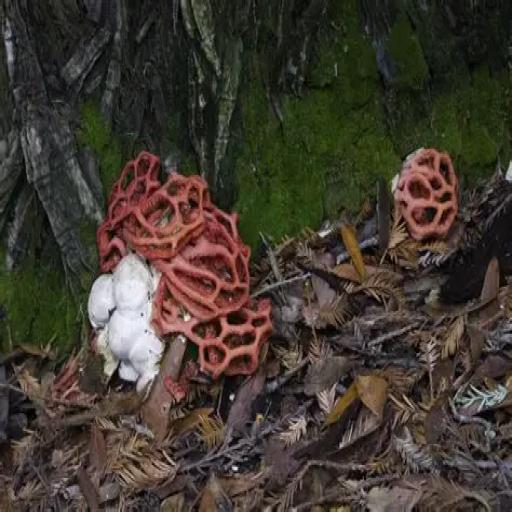Red Cage Fungus: (94, 155, 270, 403), (387, 146, 462, 252)
